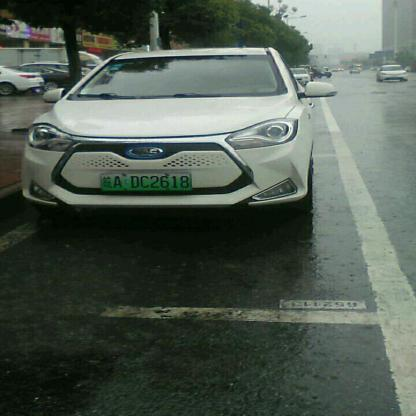lp: (101, 172, 190, 190)
